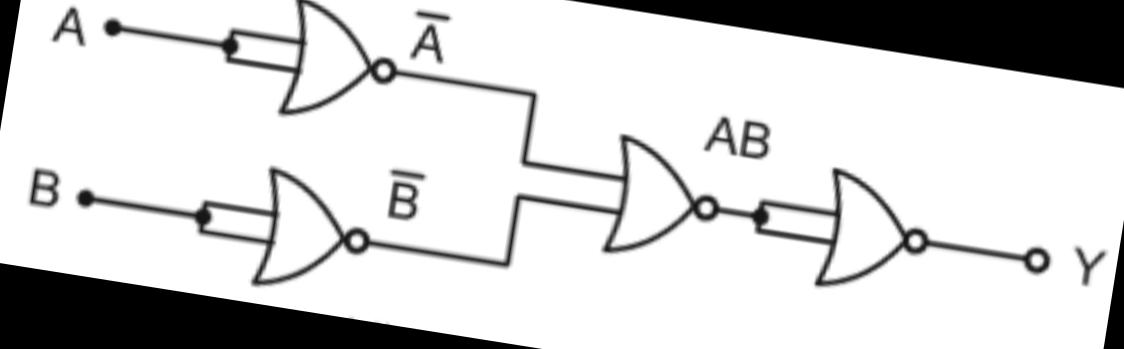nor: (241, 156, 391, 310), (804, 155, 949, 309), (594, 126, 739, 278), (268, 0, 418, 138)
